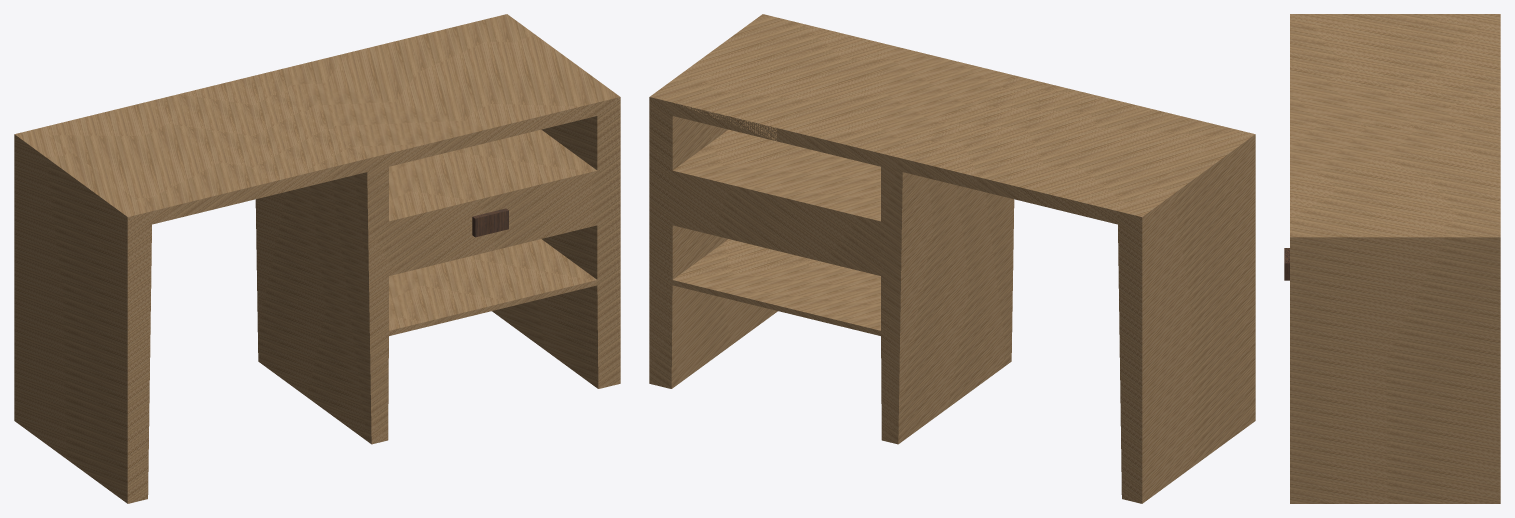
Rendered from escrivaninha.fbx.
3 renders of one model, left to right at view 1: azimuth 30°, elevation 25°; view 2: azimuth 150°, elevation 25°; view 3: azimuth 270°, elevation 25°, orthographic. The views are drawn at different scales.
Visible parts, largest first — view 1: Cube; view 2: Cube; view 3: Cube.
Part boxes in pixels (left/top/right/bottom): Cube: left=14, top=14, right=620, bottom=503; Cube: left=649, top=14, right=1255, bottom=503; Cube: left=1284, top=14, right=1500, bottom=503.
Bounding box in the file's own units: 674 × 375 × 275.
Materials: 2 (2 with a texture image).
